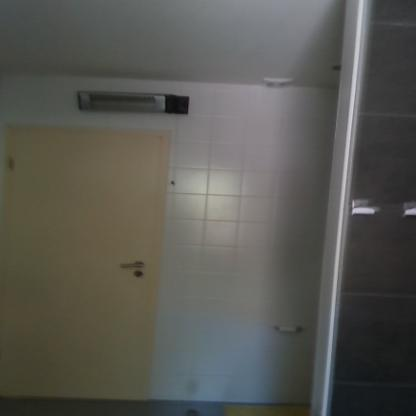door: (10, 132, 148, 402)
hinged: (7, 154, 16, 172), (0, 345, 4, 361)
lever: (119, 261, 146, 270)
